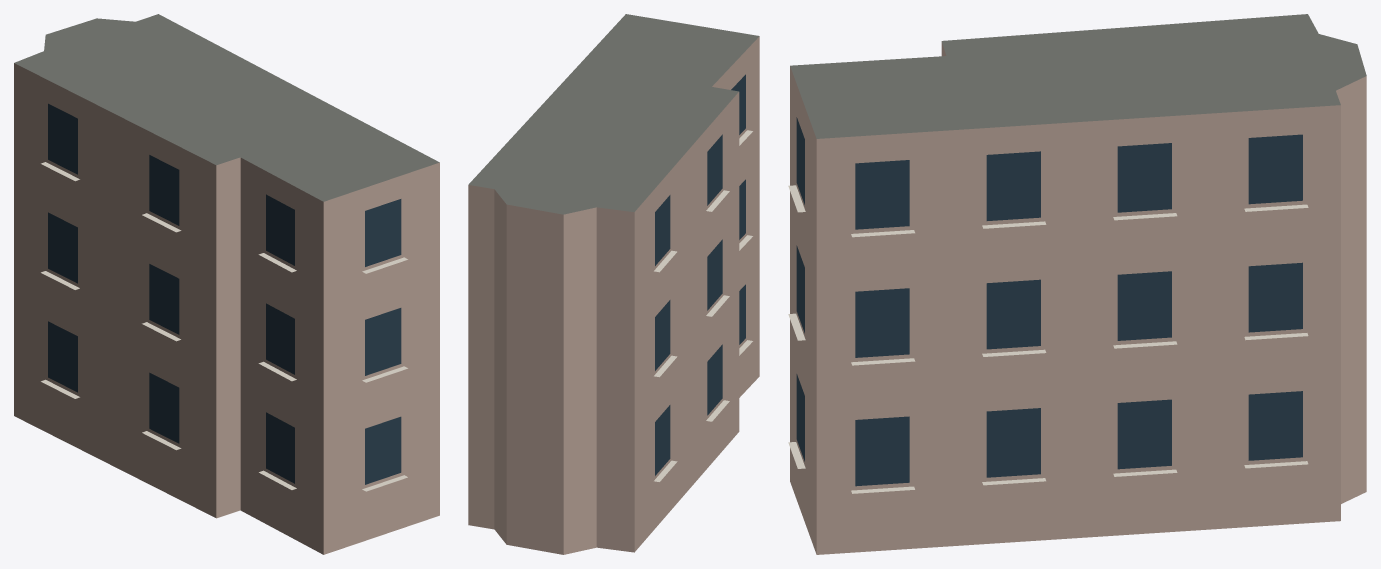
3 renders of one model, left to right at view 1: azimuth 30°, elevation 25°; view 2: azimuth 150°, elevation 25°; view 3: azimuth 270°, elevation 25°, orthographic. The views are drawn at different scales.
Parts seen in each view (by area): view 1: Footprint 0, Inferred window bays, Window sills; view 2: Footprint 0, Inferred window bays, Window sills; view 3: Footprint 0, Inferred window bays, Window sills.
Boxes of the visible parts, x1,y1,x2,y2 form: Footprint 0: [14, 14, 439, 554]; Inferred window bays: [48, 103, 401, 484]; Window sills: [41, 162, 407, 491]; Footprint 0: [468, 14, 759, 554]; Inferred window bays: [655, 74, 745, 475]; Window sills: [654, 130, 752, 481]; Footprint 0: [790, 14, 1366, 554]; Inferred window bays: [796, 117, 1302, 486]; Window sills: [788, 185, 1308, 493].
Size of the model in its own units: 6.79 by 10.35 by 13.05.
